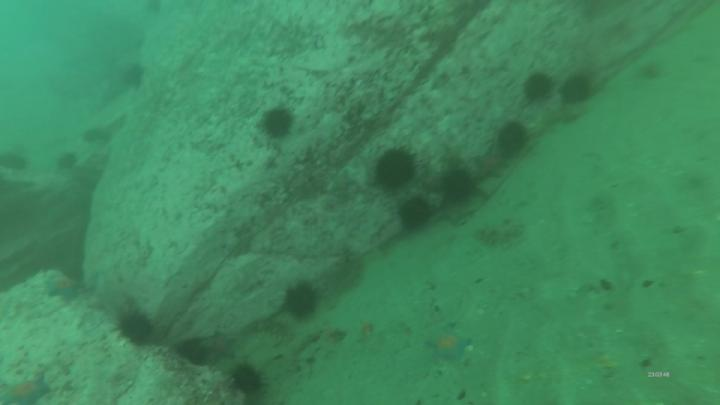echinus: (377, 149, 420, 187), (396, 200, 427, 231), (232, 365, 266, 393), (443, 170, 475, 199), (289, 288, 317, 317), (499, 126, 527, 155), (561, 76, 588, 106), (265, 111, 292, 139), (123, 318, 150, 344), (527, 73, 552, 98), (181, 341, 208, 363)
holothurian: (476, 223, 524, 246)
starfish: (427, 331, 471, 361), (476, 150, 508, 180), (3, 385, 49, 405), (441, 143, 468, 169), (49, 279, 83, 297)
